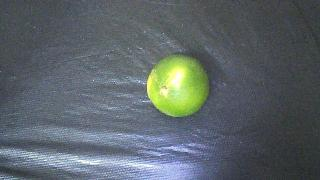LOCAL: (147, 55, 209, 117)
